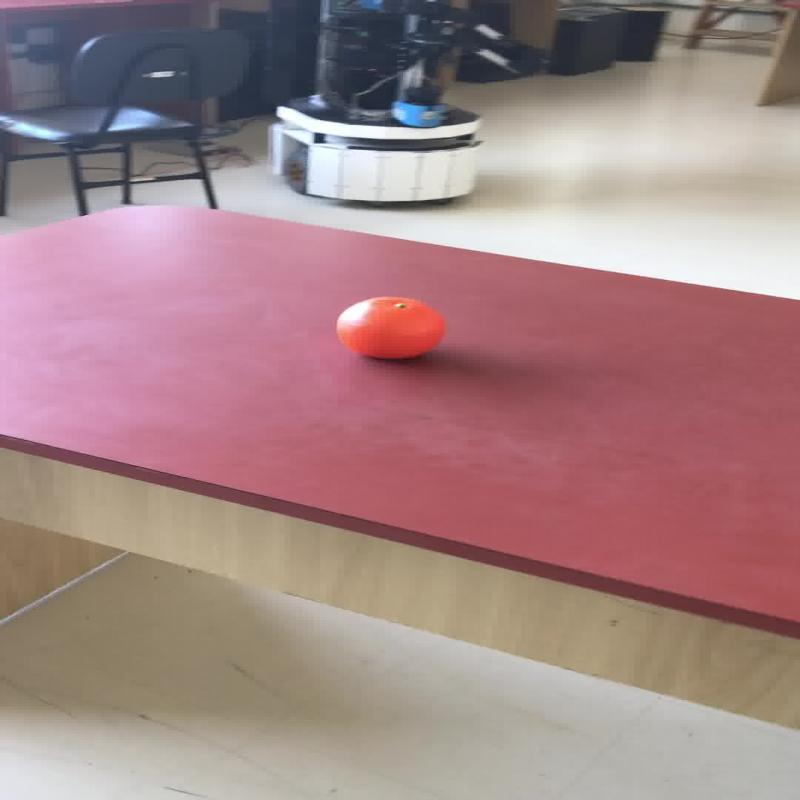orange: (334, 296, 444, 360)
